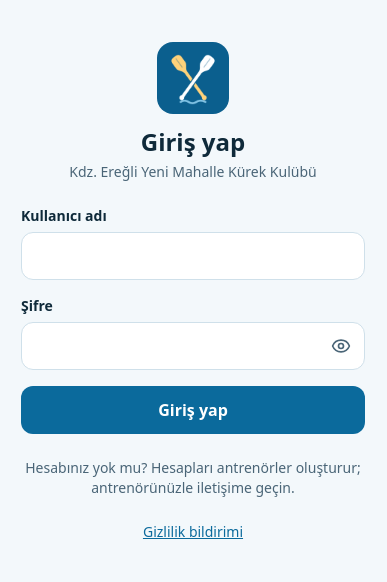
LoginPage › asks for both fields before submitting
Click the button "Giriş yap" at (193, 410), box top-left (21, 386), bottom-right (365, 434)
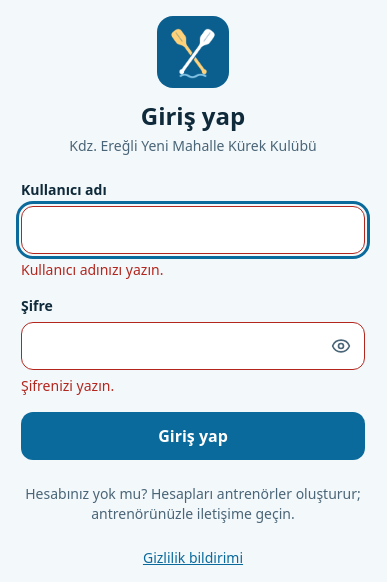
Expected: the text "Kullanıcı adınızı yazın." is shown, top-left (21, 260), bottom-right (163, 279)
Expected: the text "Şifrenizi yazın." is shown, top-left (21, 376), bottom-right (114, 395)
